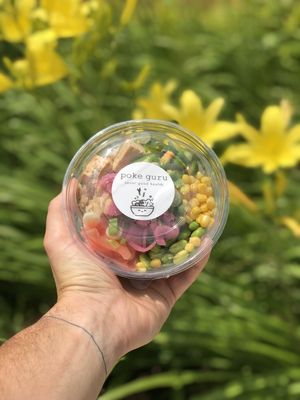pizza: (0, 115, 232, 400)
